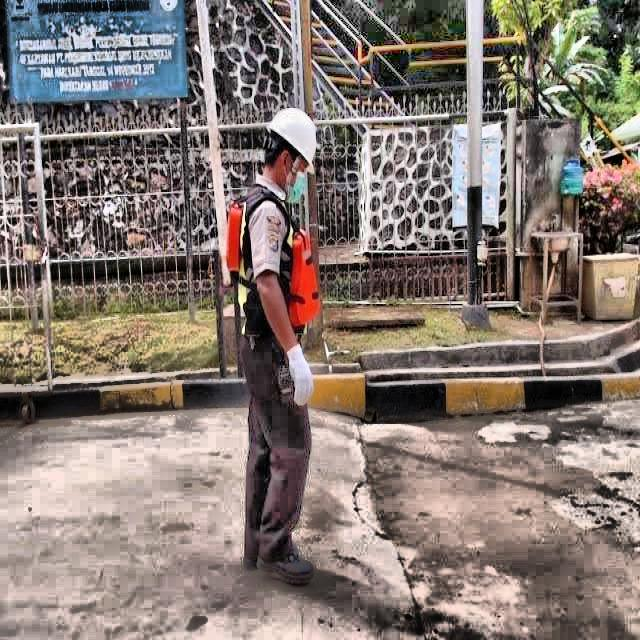safety_jacket: (222, 184, 335, 369)
